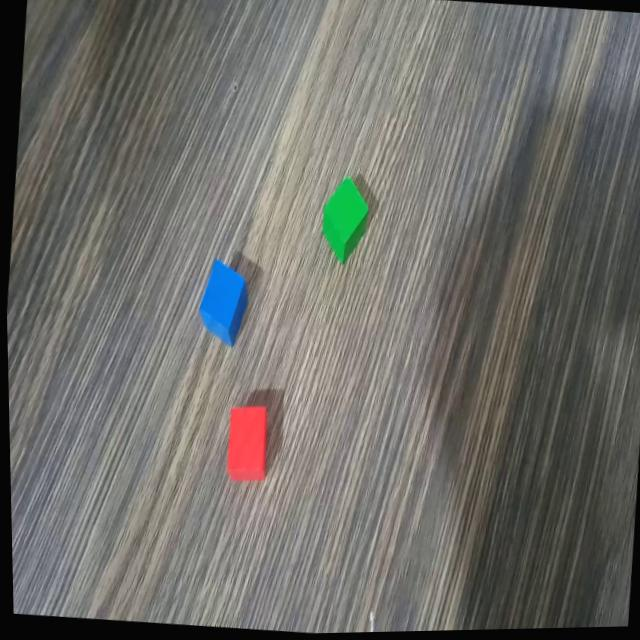cube: (313, 172, 373, 274), (192, 254, 252, 349), (217, 398, 272, 487)
